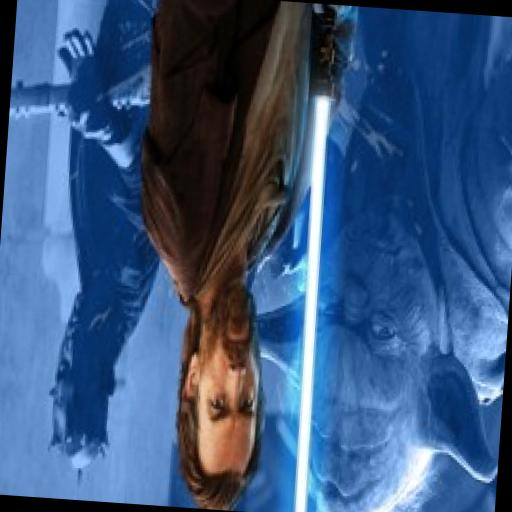human: (114, 0, 349, 511), (15, 0, 184, 485)
lightsaber: (273, 3, 350, 512)
